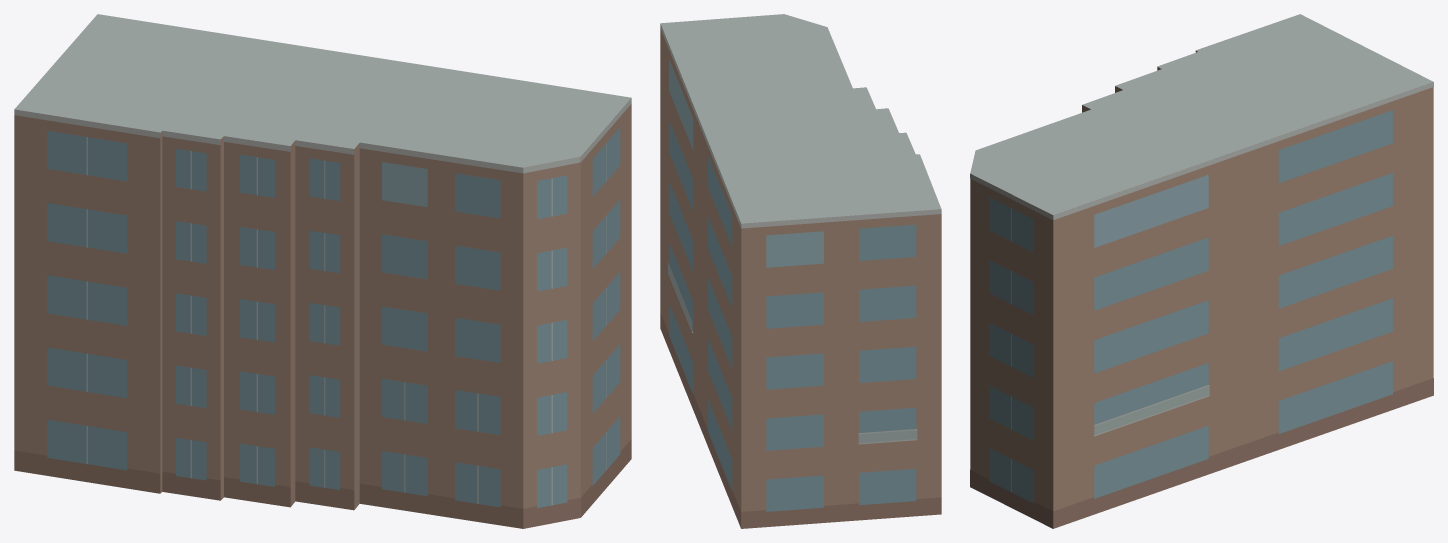
Rendered from survey-upis-32692198.glb.
3 views of the same model, side by side, from view 1: azimuth 30°, elevation 25°; view 2: azimuth 150°, elevation 25°; view 3: azimuth 270°, elevation 25° (orthographic). The views are drawn at different scales.
Visible parts, largest first — view 1: survey-upis-32692198.tmp; view 2: survey-upis-32692198.tmp; view 3: survey-upis-32692198.tmp.
Part boxes in pixels (x1=…): survey-upis-32692198.tmp: x1=14, y1=14, x2=631, y2=528; survey-upis-32692198.tmp: x1=660, y1=14, x2=941, y2=528; survey-upis-32692198.tmp: x1=970, y1=14, x2=1433, y2=528.
Size of the model in its own units: 21.14 by 15.35 by 20.58.
